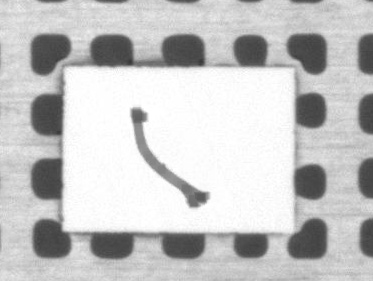DIE_INK: (129, 106, 210, 209)
